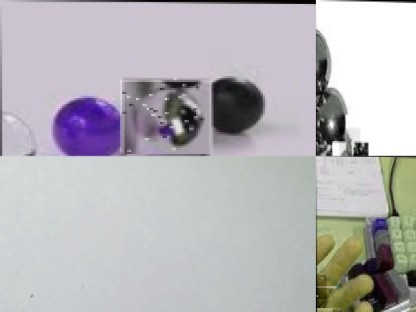ironball: (122, 77, 210, 156), (202, 71, 268, 135), (316, 79, 352, 156), (315, 22, 335, 97), (338, 127, 360, 155), (316, 274, 326, 299), (316, 144, 330, 156), (316, 308, 341, 311)
